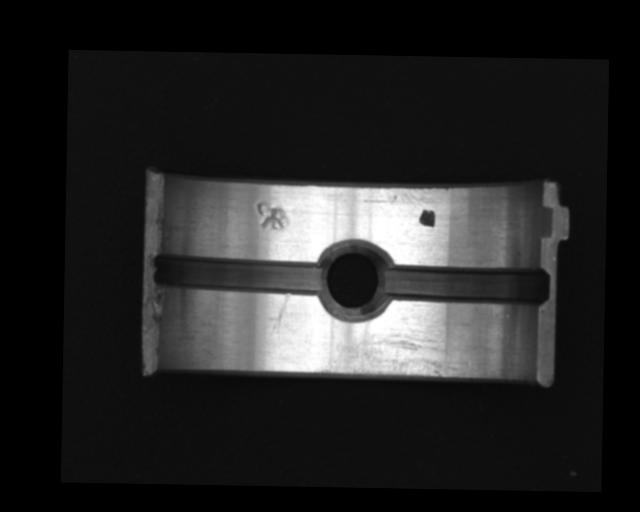blot: (418, 209, 436, 228)
bruise: (255, 201, 289, 230)
gap: (152, 249, 326, 297), (384, 264, 550, 306)
hole: (315, 240, 392, 321)
nick: (268, 292, 292, 343)
scratch: (317, 325, 474, 380)
